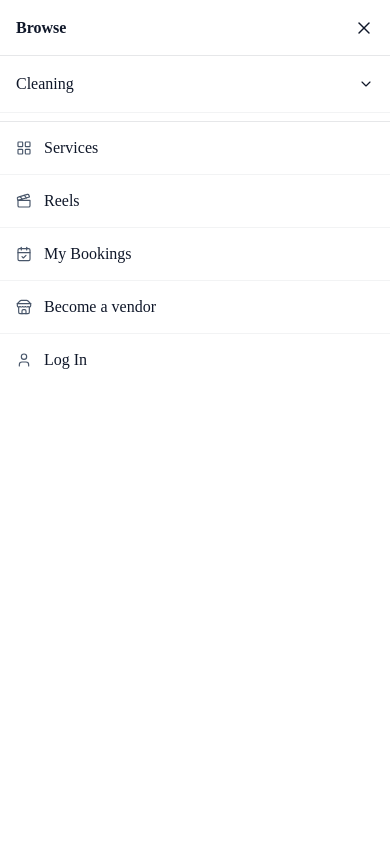
it: MobileNavDrawer › renders tab labels when open and expands children on click
Expected: the text "Cleaning" is shown, [16,72,74,96]
Expected: the text "Deep cleaning" is not shown
Click the button "Cleaning" at (45, 84), box [0,56,389,112]
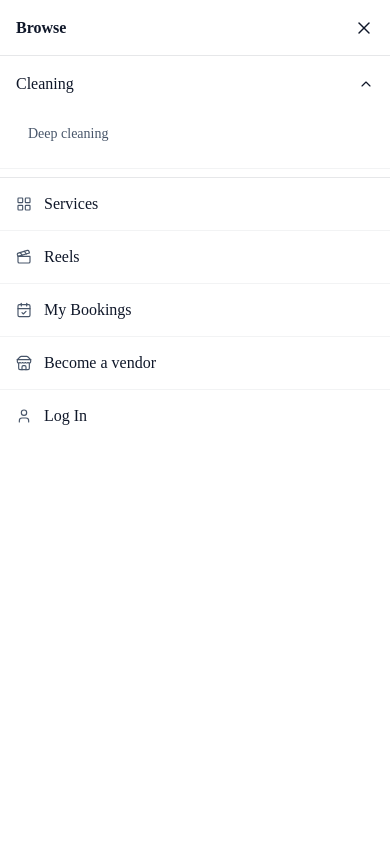
Now the link "Deep cleaning" is shown, box [28,126,108,141]
